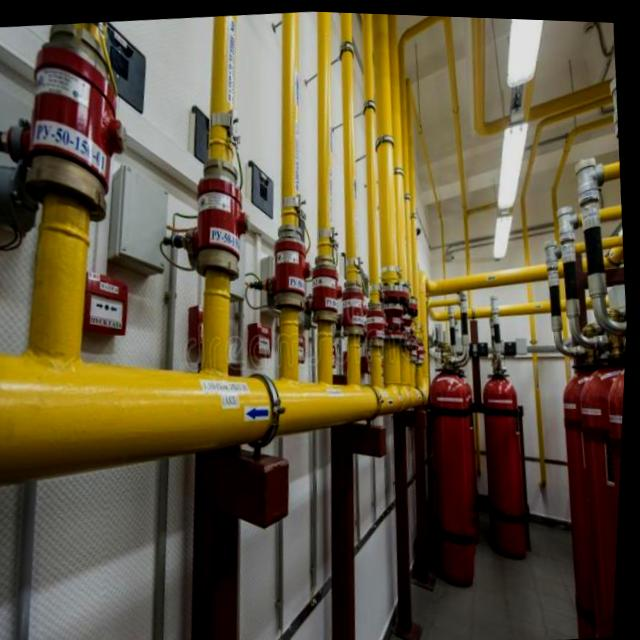FireExtinguisher: (546, 351, 628, 635), (416, 350, 495, 590), (570, 334, 629, 632), (475, 349, 543, 557), (598, 351, 628, 631)
